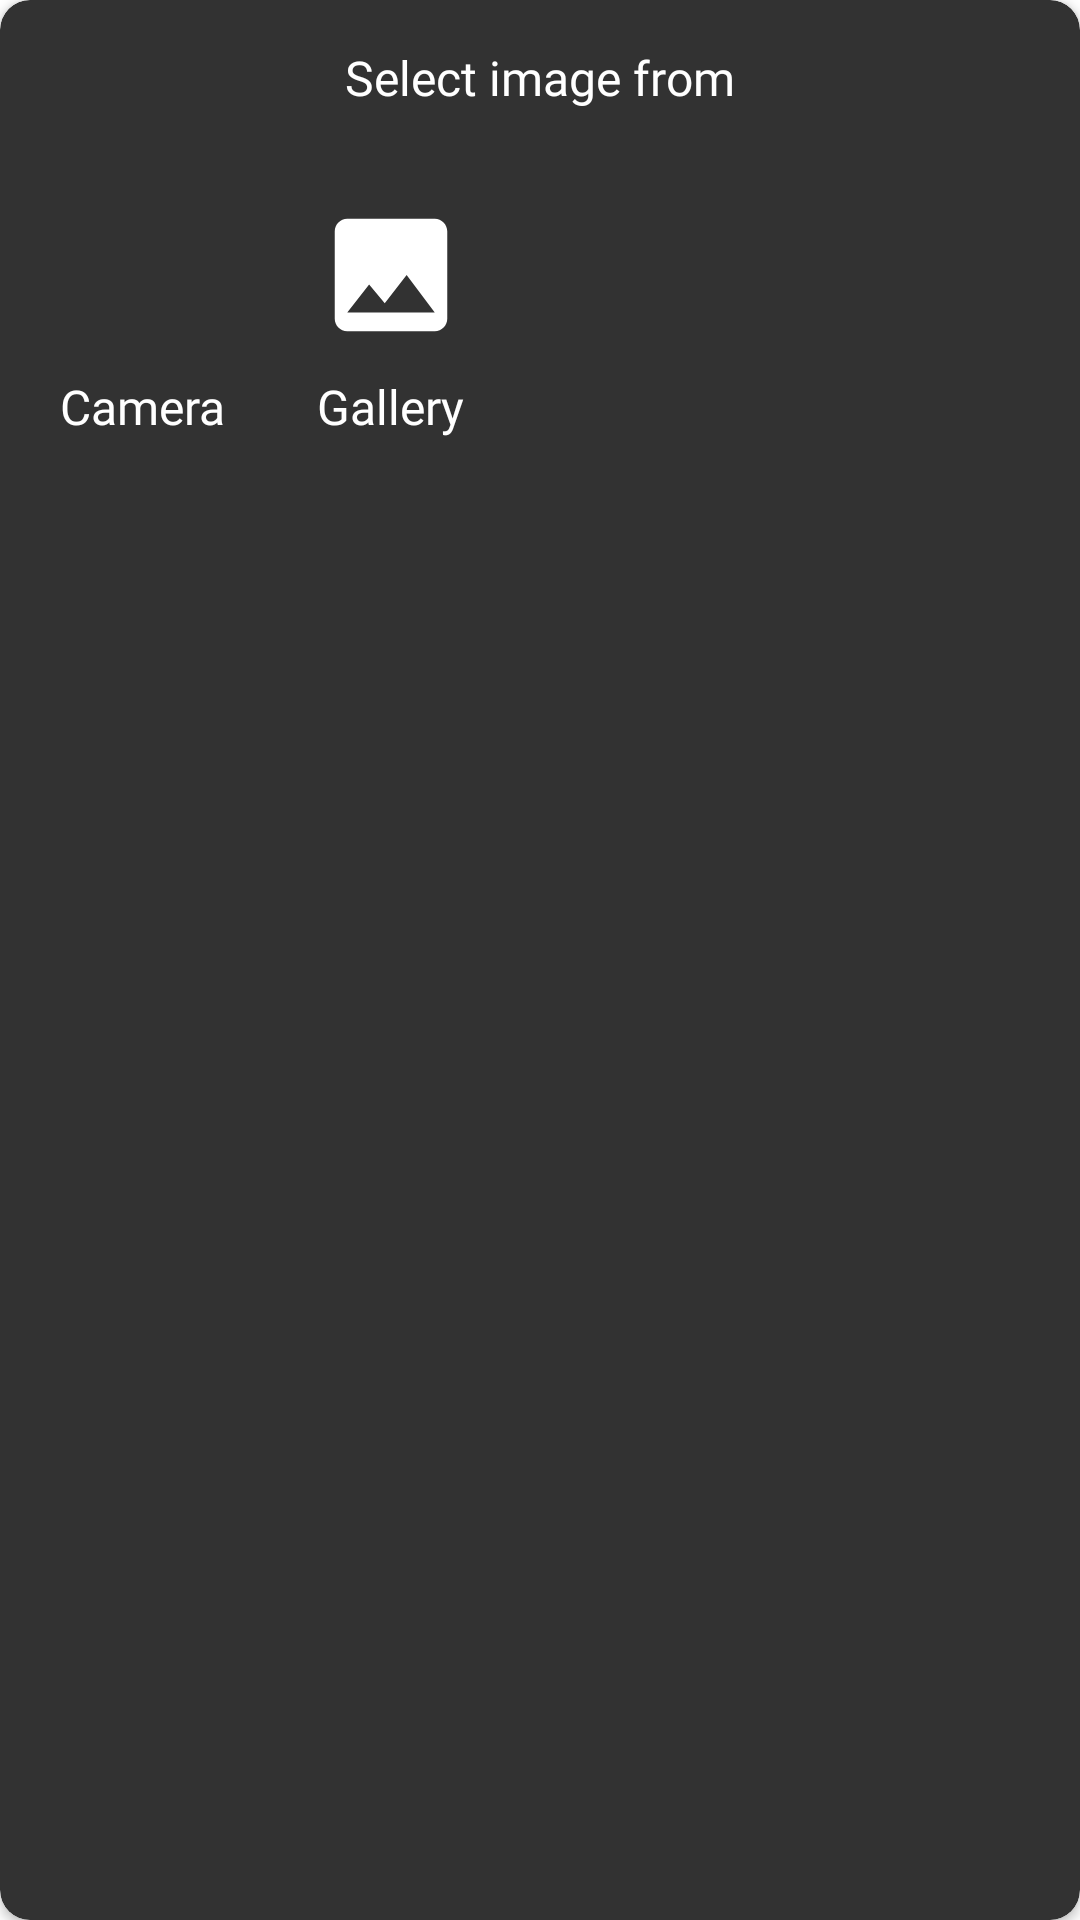

Named icons in this screenshot (1080 × 1920) and their bounding boxes, (x1, y1, x2, y2):
insert photo: (334, 218, 448, 332)
